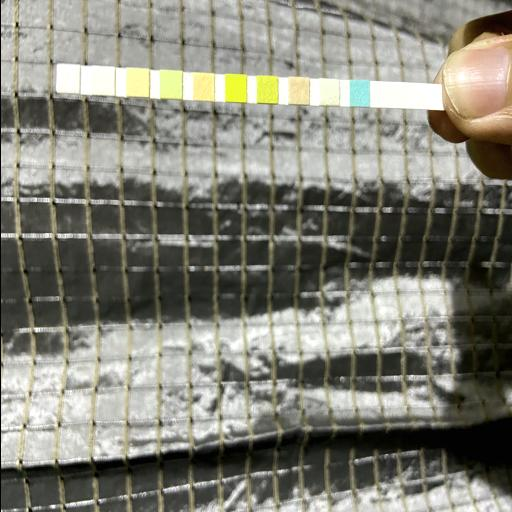Bilirubin: (320, 81, 338, 103)
Blood: (226, 76, 246, 100)
Glucose: (350, 82, 367, 106)
Ketone: (289, 80, 307, 102)
Leukocytes: (58, 68, 76, 92)
Nitrite: (92, 70, 112, 94)
Protein: (160, 72, 180, 96)
SpGravity: (258, 79, 276, 101)
Urobilinogen: (127, 72, 148, 96)
pH: (194, 76, 212, 98)
strip: (57, 64, 439, 110)
